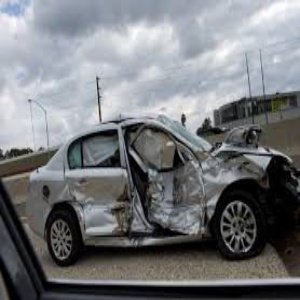door: (76, 176, 206, 239)
